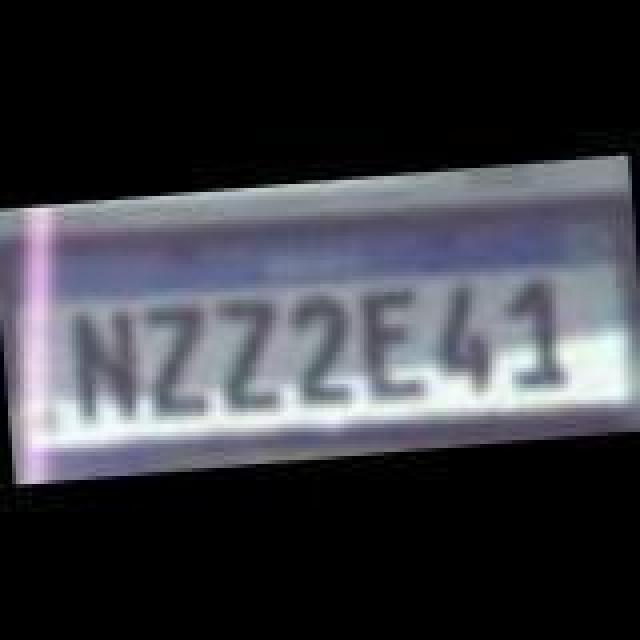1: (492, 264, 564, 384)
2: (282, 292, 350, 412)
4: (424, 270, 496, 394)
E: (356, 280, 428, 400)
N: (68, 306, 140, 430)
Z: (140, 296, 212, 424), (216, 292, 280, 412)
